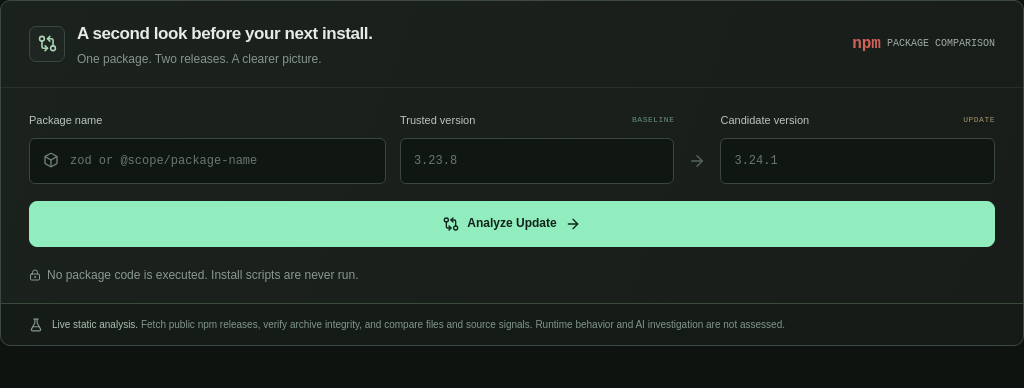
Test case: live static comparison form › rejects invalid input locally before creating a real job
Click the button "Analyze Update" at (512, 224), box [29, 201, 995, 247]
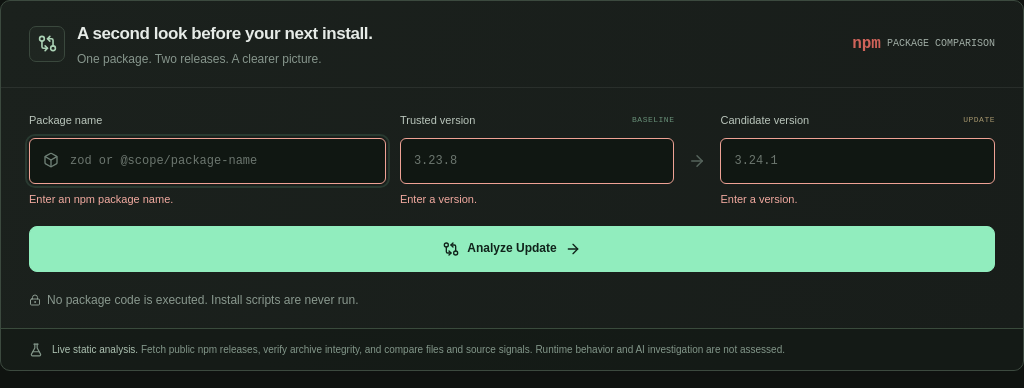
expect the text "Enter an npm package name." is shown: met, box [29, 193, 173, 205]
